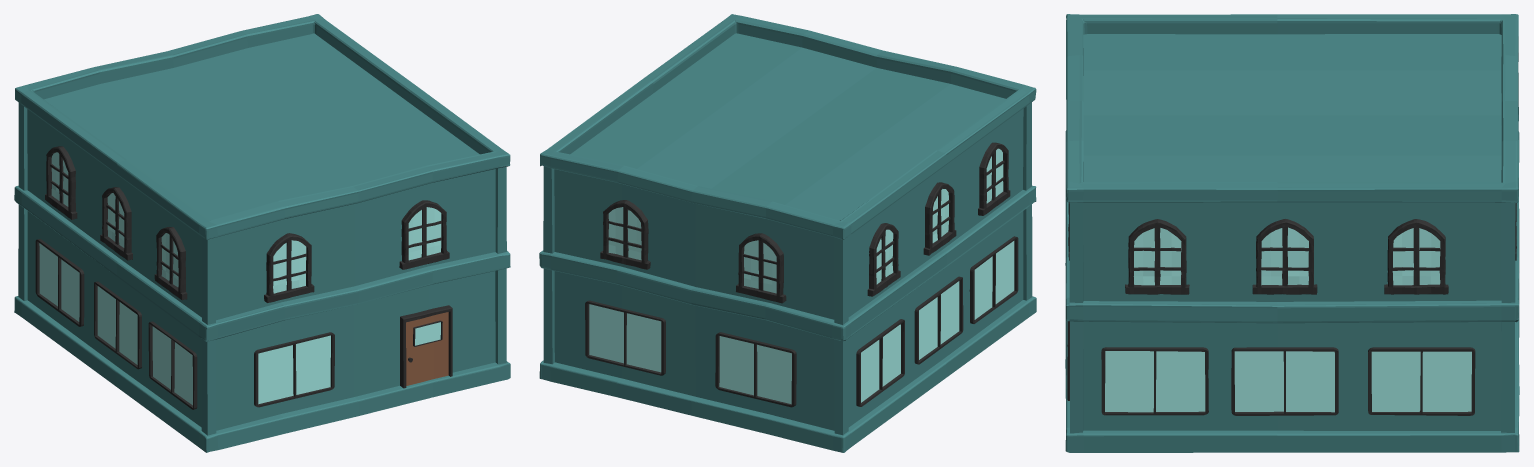
The model's file is school 1 full window(ada pintu).fbx.
3 renders of one model, left to right at view 1: azimuth 30°, elevation 25°; view 2: azimuth 150°, elevation 25°; view 3: azimuth 270°, elevation 25°, orthographic. The views are drawn at different scales.
Parts seen in each view (by area): view 1: Cube.045; view 2: Cube.045; view 3: Cube.045.
Part boxes in pixels (left/top/right/bottom): Cube.045: left=14, top=14, right=510, bottom=452; Cube.045: left=539, top=14, right=1036, bottom=452; Cube.045: left=1065, top=14, right=1519, bottom=452.
Size of the model in its own units: 1135 by 811 by 1242.
